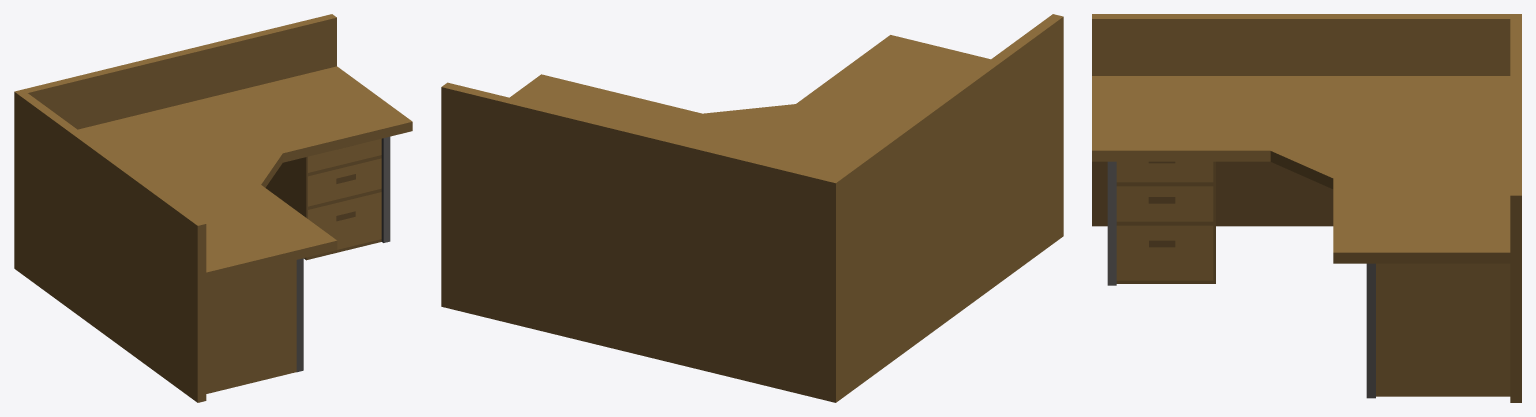
Rendered from SO_Desk_04.fbx.
The picture shows the model from 3 angles, left to right: view 1: azimuth 30°, elevation 25°; view 2: azimuth 150°, elevation 25°; view 3: azimuth 270°, elevation 25°; orthographic projection. The views are drawn at different scales.
Visible parts, largest first — view 1: SO_Desk_04; view 2: SO_Desk_04; view 3: SO_Desk_04.
Part boxes in pixels (x1,y1,x2,y2): SO_Desk_04: [14, 14, 412, 402]; SO_Desk_04: [441, 14, 1063, 402]; SO_Desk_04: [1092, 14, 1521, 402].
Bounding box in the file's own units: 4.08 × 2.17 × 4.08.
